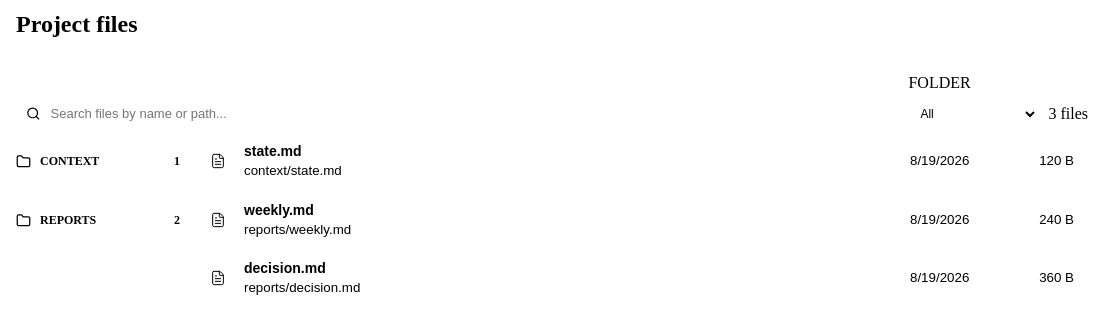
workbench frontend › filters project files by folder and search text
Check: the text "context/state.md" is shown, box left=244, top=163, right=342, bottom=178
Select "reports" in the dropdown named "Filter by folder" at (974, 114), box left=908, top=96, right=1038, bottom=132
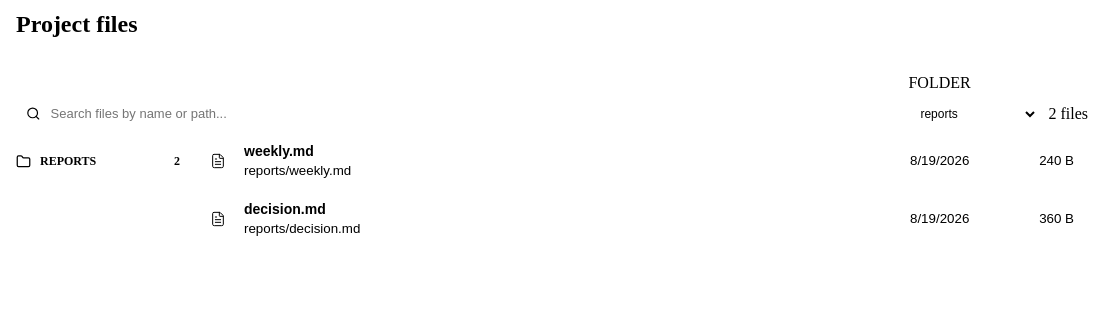
Check: the text "reports/weekly.md" is shown, box left=244, top=163, right=351, bottom=178
Check: the button "context/state.md" is gone
Type "decision" into the field labelled "Search files".
click(468, 114); type("decision")  # box left=48, top=105, right=888, bottom=122
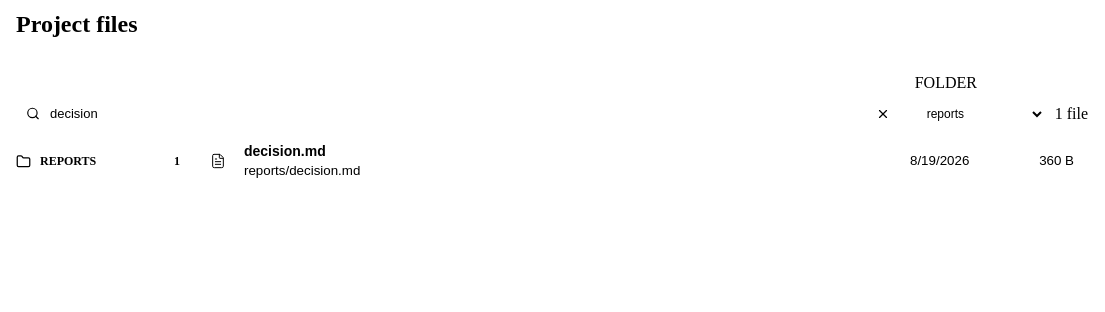
Check: the text "reports/decision.md" is shown, box left=244, top=163, right=360, bottom=178
Check: the button "reports/weekly.md" is gone
